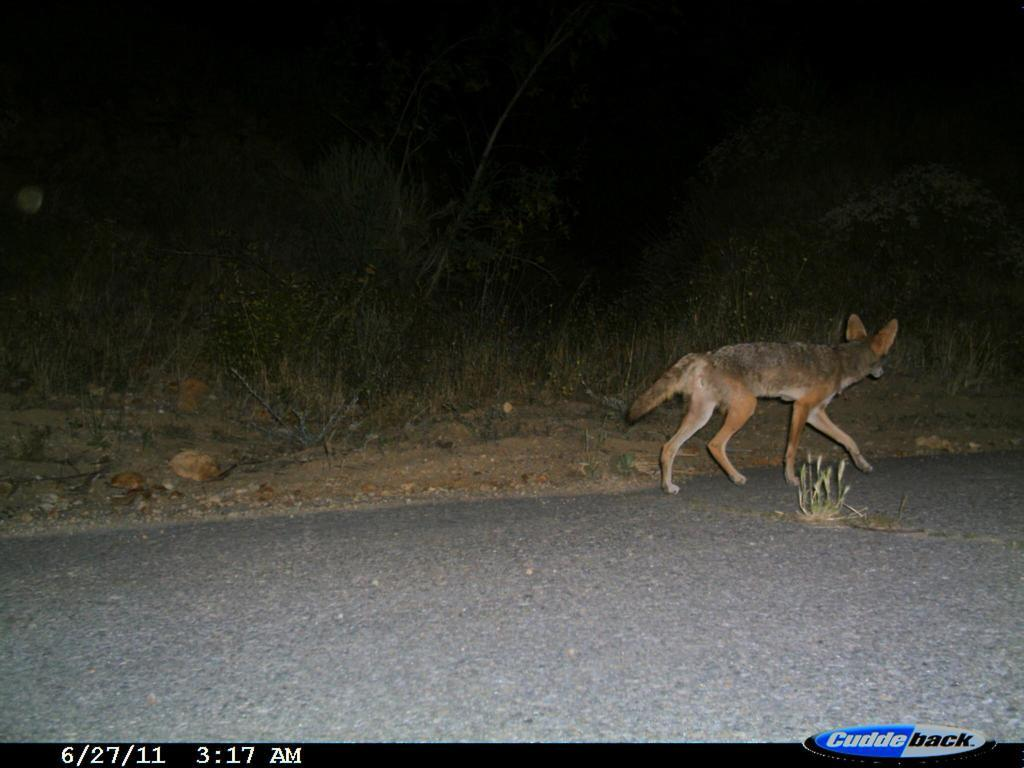coyote: (610, 286, 905, 533)
